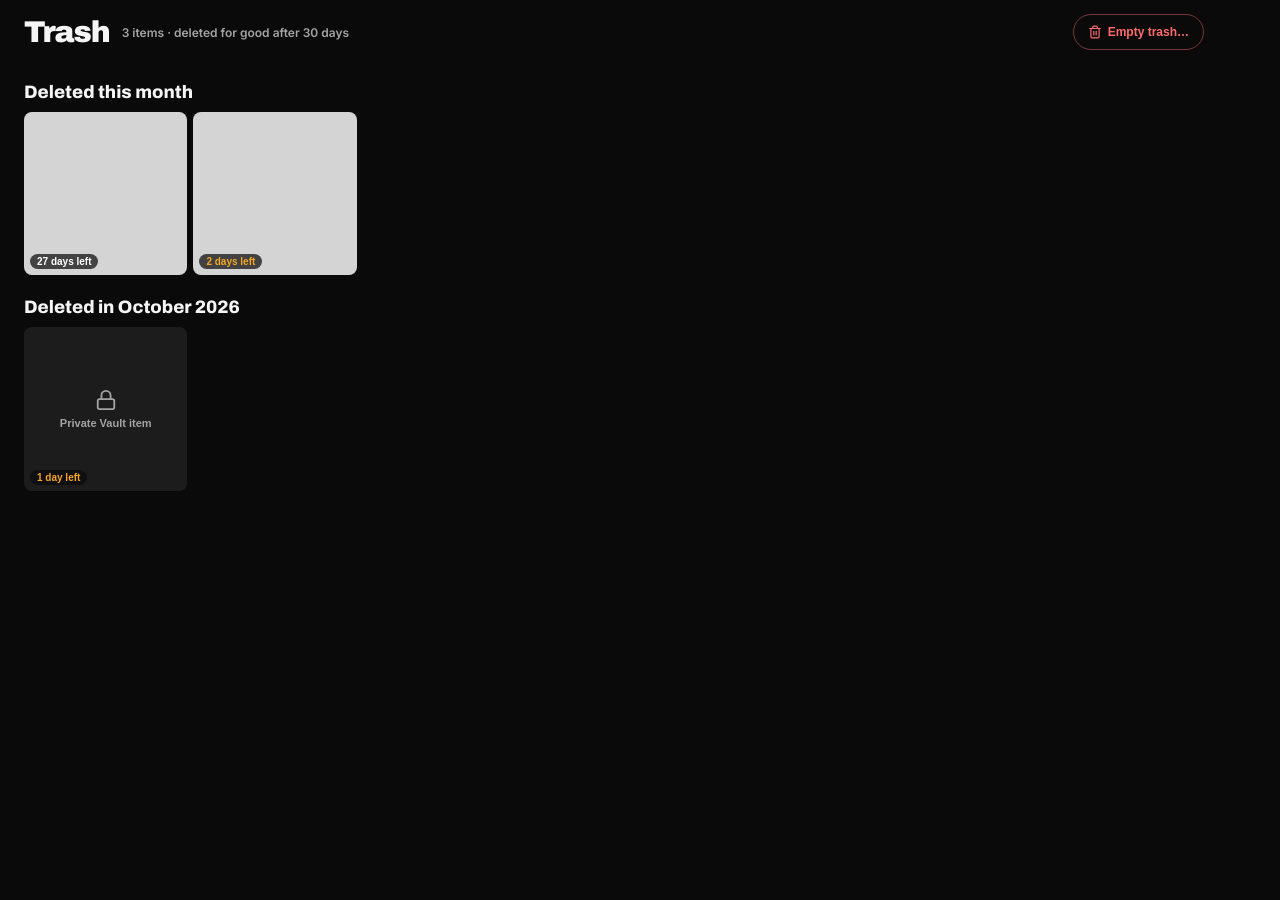
Test case: TrashView › empties the trash only after confirming
Click the button "Empty trash…" at (1138, 32), box [1073,14,1204,50]
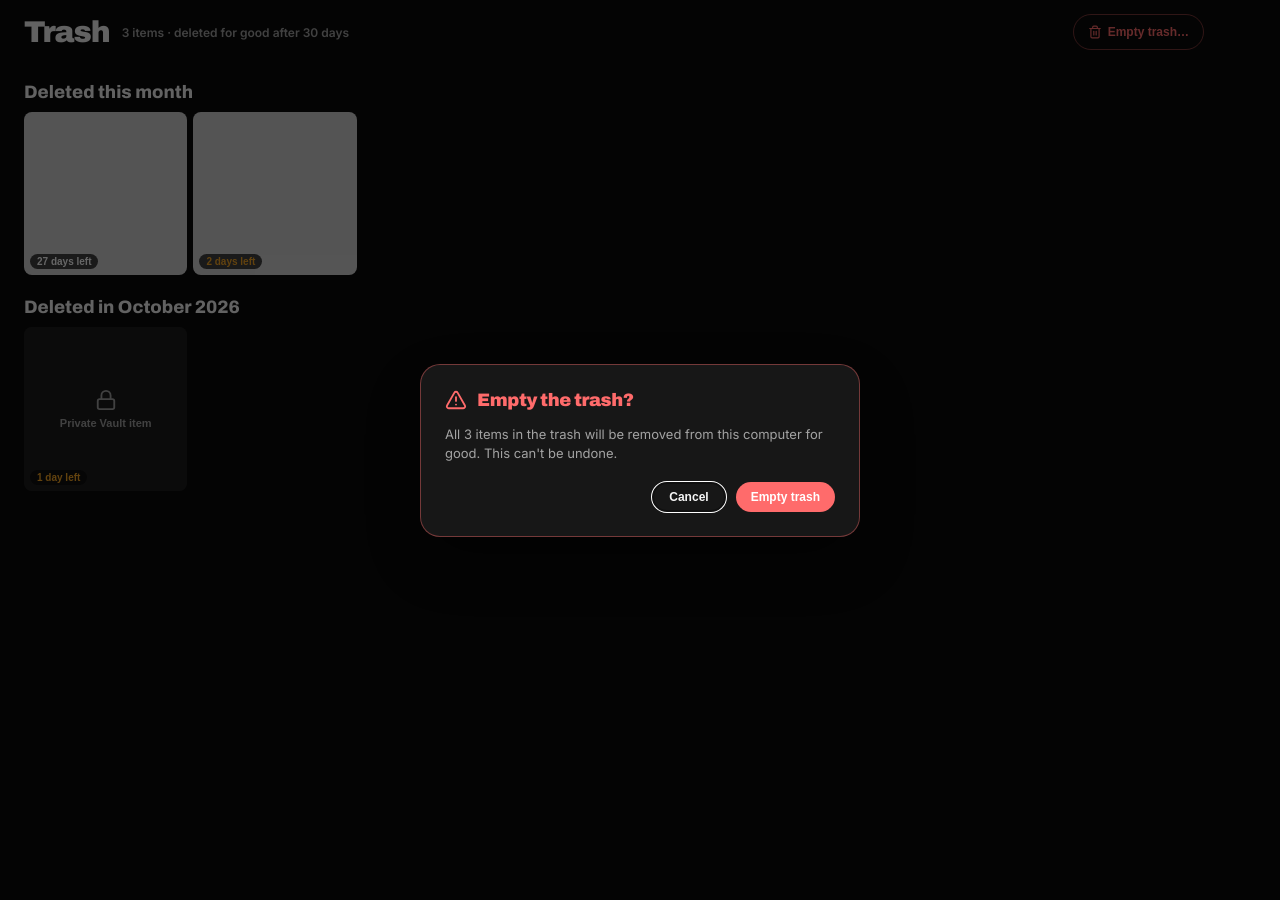
Check: the dialog "Empty the trash?" shows "All 3 items in the trash will be removed", box [445,426,823,461]
Click the button "Empty trash" at (785, 496), box [736,482,835,512]
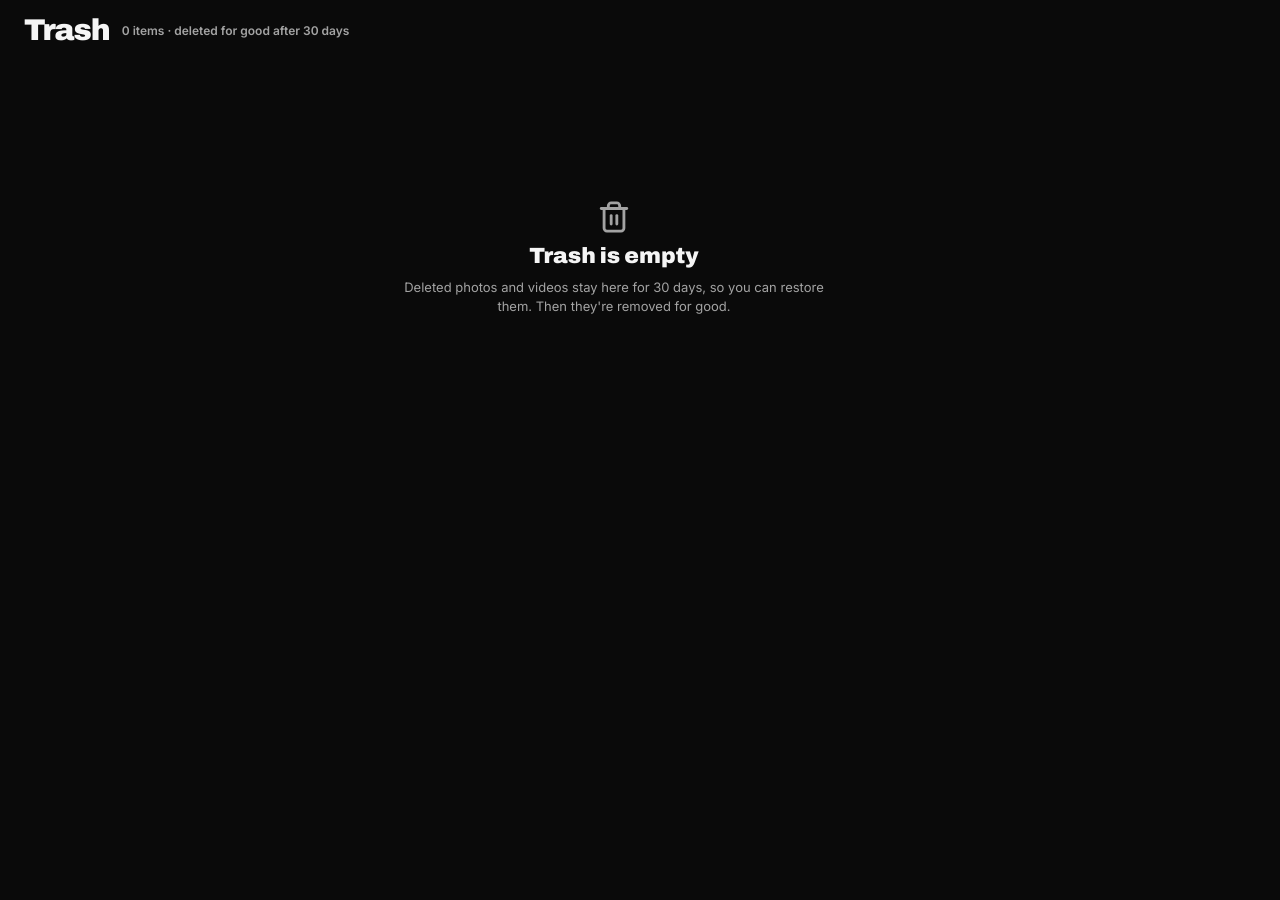
Check: the heading "Trash is empty" is shown, box [529,244,699,268]
